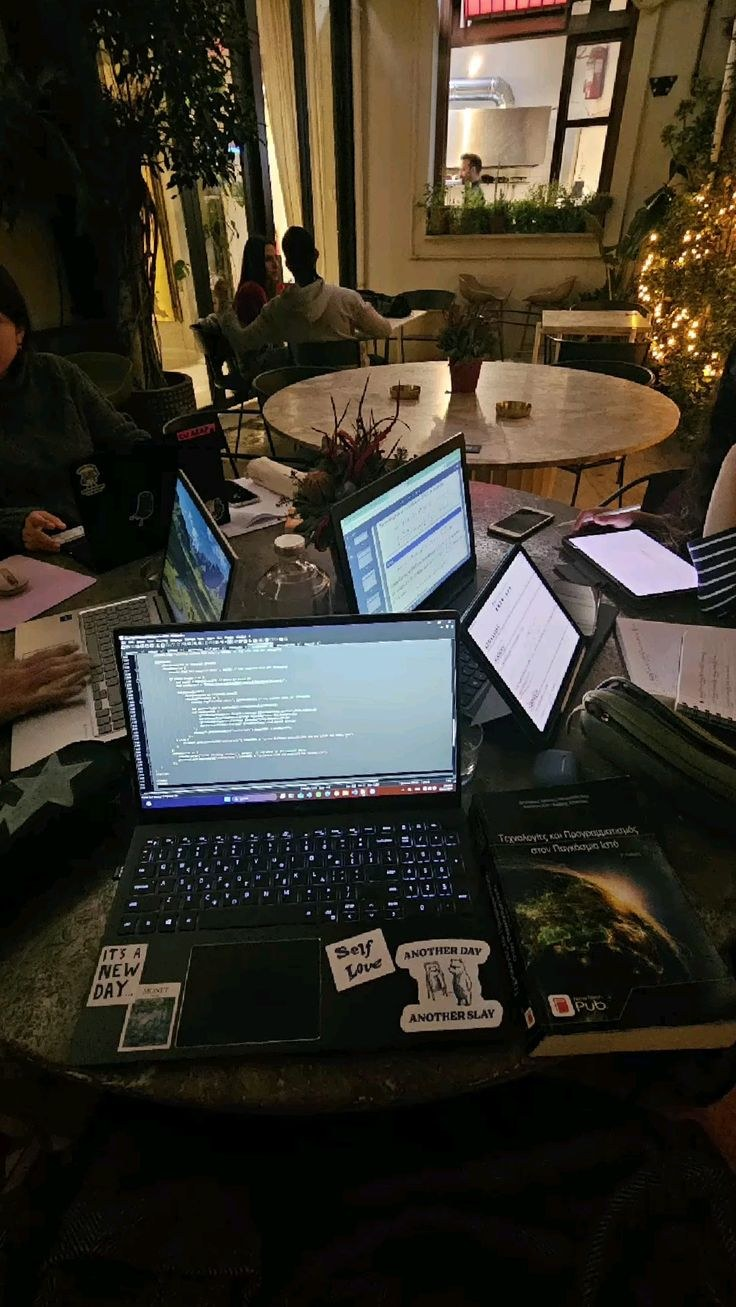cell phone: (487, 507, 555, 541)
laptop: (68, 608, 514, 1066), (10, 467, 241, 771), (326, 431, 501, 726), (49, 413, 227, 573)
